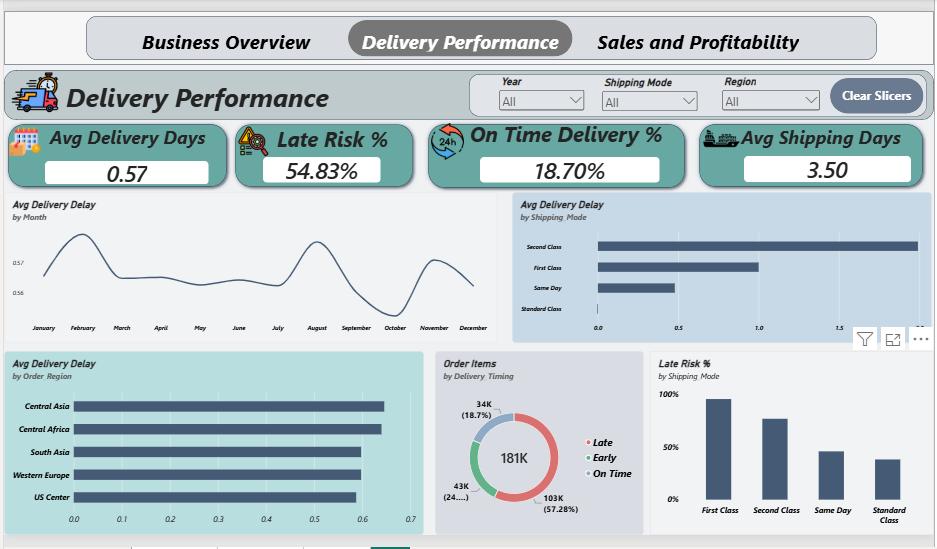

What the dashboard file says about the page in this screenshot:
{"tool":"powerbi","page":{"name":"Delivery","canvas":[1920,1080],"ordinal":1},"visuals":[{"type":"group","id":"g1","title":"Group 11","box":[0,0,1920,110.9],"z":0},{"type":"shape","box":[0,0,1920,110.9],"z":0,"group":"g1"},{"type":"group","id":"g2","title":"Group 1","box":[0,225,468.6,146.6],"z":0,"group":"g8"},{"type":"shape","box":[0,225,468.6,146.6],"z":0,"group":"g2"},{"type":"group","id":"g3","title":"Group 3","box":[468.6,225,384,146.6],"z":0,"group":"g10"},{"type":"group","id":"g4","title":"Group 1","box":[468.6,225,384,146.6],"z":0,"group":"g3"},{"type":"shape","box":[468.6,225,384,146.6],"z":0,"group":"g11"},{"type":"group","id":"g5","title":"Group 1","box":[867.1,225,547.1,148.6],"z":0,"group":"g9"},{"type":"shape","box":[867.1,225,547.1,148.6],"z":0,"group":"g5"},{"type":"group","id":"g6","title":"Group 1","box":[1426.2,225,479,146.6],"z":0,"group":"g12"},{"type":"shape","box":[1426.2,225,479,146.6],"z":0,"group":"g6"},{"type":"shape","box":[168.8,10.1,1632.8,90.7],"z":1000,"group":"g14"},{"type":"group","id":"g7","title":"Group 2","box":[0,119.7,1920,105.7],"z":1000},{"type":"image","box":[1434.1,225.1,92.9,76.4],"z":1000,"group":"g12"},{"type":"textbox","box":[562.8,235.4,276.3,67.8],"z":1000,"group":"g10"},{"type":"image","box":[0,237.3,86.6,64],"z":1000,"group":"g8"},{"type":"cardVisual","fields":{"Data":["SupplyChain.Avg Shipping Days"]},"box":[1527.3,298.8,345.7,54.7],"z":1000,"group":"g6"},{"type":"cardVisual","fields":{"Data":["SupplyChain.Late Risk %"]},"box":[533.8,301.3,243.6,53.7],"z":1000,"group":"g11"},{"type":"cardVisual","fields":{"Data":["SupplyChain.On Time Delivery %"]},"box":[983.3,302,371.3,53.9],"z":1000,"group":"g5"},{"type":"cardVisual","fields":{"Data":["SupplyChain.Avg Delivery Delay"]},"box":[85.6,308.8,338.2,48.2],"z":1000,"group":"g2"},{"type":"actionButton","box":[226.8,17.7,463.6,75.6],"z":2000,"group":"g14"},{"type":"actionButton","box":[1704.7,137.6,193.4,73.8],"z":2000},{"type":"textbox","box":[910.8,225.6,499.5,96.9],"z":2000,"group":"g5"},{"type":"textbox","box":[40.8,234.5,427.9,90.4],"z":2000,"group":"g2"},{"type":"textbox","box":[1466.9,235.3,437.3,92.9],"z":2000,"group":"g6"},{"type":"group","id":"g8","title":"Group 3","box":[0,225,468.6,146.6],"z":3000},{"type":"actionButton","box":[710.5,17.7,463.6,75.6],"z":4000,"group":"g14"},{"type":"shape","box":[0,120.9,1920,103.3],"z":4000,"group":"g13"},{"type":"group","id":"g9","title":"Group 3","box":[867.1,225,547.1,148.6],"z":4000},{"type":"group","id":"g10","title":"Group 4","box":[468.6,225,384,146.6],"z":4002,"group":"g15"},{"type":"group","id":"g11","title":"Group 5","box":[468.6,225,384,146.6],"z":4005,"group":"g4"},{"type":"image","box":[472.8,235.4,83.7,68.1],"z":4010,"group":"g15"},{"type":"actionButton","box":[1201.9,17.7,463.6,75.6],"z":5000,"group":"g14"},{"type":"textbox","box":[127.6,139.6,767.6,85.7],"z":5000,"group":"g13"},{"type":"group","id":"g12","title":"Group 3","box":[1426.2,225,479,146.6],"z":5000},{"type":"clusteredBarChart","fields":{"Category":["SupplyChain.Shipping_Mode"],"Y":["SupplyChain.Avg Delivery Delay"]},"box":[1048.8,373.7,867.1,311.7],"z":6000},{"type":"image","box":[0,119.7,127.6,95.7],"z":6010,"group":"g13"},{"type":"clusteredColumnChart","fields":{"Category":["SupplyChain.Shipping_Mode"],"Y":["SupplyChain.Late Risk %"]},"box":[1333.7,701.9,586.3,379.9],"z":7000},{"type":"clusteredBarChart","fields":{"Category":["SupplyChain.Order_Region"],"Y":["SupplyChain.Avg Delivery Delay"]},"box":[0,701.9,867.1,379.9],"z":8000},{"type":"donutChart","fields":{"Category":["SupplyChain.Delivery_Timing"],"Y":["SupplyChain.Order Items"]},"box":[889.8,701.9,431.5,379.9],"z":9000},{"type":"group","id":"g13","title":"Group 8","box":[0,119.7,1920,105.7],"z":10000,"group":"g7"},{"type":"lineChart","fields":{"Y":["SupplyChain.Avg Delivery Delay"],"Category":["SupplyChain.Months.Variation.Date Hierarchy.Month"]},"box":[0,373.7,1017.8,311.7],"z":10000},{"type":"group","id":"g14","title":"Group 10","box":[168.8,10.1,1632.8,90.7],"z":11000,"group":"g1"},{"type":"group","id":"g15","title":"Group 6","box":[468.6,225,384,146.6],"z":11000},{"type":"image","box":[871.2,231.2,88.8,76.4],"z":12000},{"type":"slicer","fields":{"Values":["SupplyChain.Months.Variation.Date Hierarchy.Year","SupplyChain.Months.Variation.Date Hierarchy.Month"]},"box":[1016.8,132.9,185.4,79.8],"z":13000,"group":"g7"},{"type":"shape","box":[961,129.7,945,87.7],"z":13001,"group":"g13"},{"type":"slicer","fields":{"Values":["SupplyChain.Shipping_Mode"]},"box":[1230.5,134.7,206.5,72.3],"z":14000,"group":"g7"},{"type":"slicer","fields":{"Values":["SupplyChain.Order_Region"]},"box":[1477.4,132.9,211.3,79.8],"z":15000,"group":"g7"}]}

Visuals, with their boxes on the page's 1920x1080 design canvas (x1, y1, x2, y2). These are canvas units, not pixel positions in the 937x549 screenshot, which may show the page scaled, cropped or inside an application window:
"Group 11" group: <box>0,0,1920,111</box>
shape: <box>0,0,1920,111</box>
"Group 1" group: <box>0,225,469,372</box>
shape: <box>0,225,469,372</box>
"Group 3" group: <box>469,225,853,372</box>
"Group 1" group: <box>469,225,853,372</box>
shape: <box>469,225,853,372</box>
"Group 1" group: <box>867,225,1414,374</box>
shape: <box>867,225,1414,374</box>
"Group 1" group: <box>1426,225,1905,372</box>
shape: <box>1426,225,1905,372</box>
shape: <box>169,10,1802,101</box>
"Group 2" group: <box>0,120,1920,225</box>
image: <box>1434,225,1527,302</box>
textbox: <box>563,235,839,303</box>
image: <box>0,237,87,301</box>
cardVisual - SupplyChain.Avg Shipping Days: <box>1527,299,1873,354</box>
cardVisual - SupplyChain.Late Risk %: <box>534,301,777,355</box>
cardVisual - SupplyChain.On Time Delivery %: <box>983,302,1355,356</box>
cardVisual - SupplyChain.Avg Delivery Delay: <box>86,309,424,357</box>
actionButton: <box>227,18,690,93</box>
actionButton: <box>1705,138,1898,211</box>
textbox: <box>911,226,1410,322</box>
textbox: <box>41,234,469,325</box>
textbox: <box>1467,235,1904,328</box>
"Group 3" group: <box>0,225,469,372</box>
actionButton: <box>710,18,1174,93</box>
shape: <box>0,121,1920,224</box>
"Group 3" group: <box>867,225,1414,374</box>
"Group 4" group: <box>469,225,853,372</box>
"Group 5" group: <box>469,225,853,372</box>
image: <box>473,235,556,304</box>
actionButton: <box>1202,18,1666,93</box>
textbox: <box>128,140,895,225</box>
"Group 3" group: <box>1426,225,1905,372</box>
clusteredBarChart - SupplyChain.Shipping_Mode x SupplyChain.Avg Delivery Delay: <box>1049,374,1916,685</box>
image: <box>0,120,128,215</box>
clusteredColumnChart - SupplyChain.Shipping_Mode x SupplyChain.Late Risk %: <box>1334,702,1920,1082</box>
clusteredBarChart - SupplyChain.Order_Region x SupplyChain.Avg Delivery Delay: <box>0,702,867,1082</box>
donutChart - SupplyChain.Delivery_Timing x SupplyChain.Order Items: <box>890,702,1321,1082</box>
"Group 8" group: <box>0,120,1920,225</box>
lineChart - SupplyChain.Avg Delivery Delay x SupplyChain.Months.Variation.Date Hierarchy.Month: <box>0,374,1018,685</box>
"Group 10" group: <box>169,10,1802,101</box>
"Group 6" group: <box>469,225,853,372</box>
image: <box>871,231,960,308</box>
slicer - SupplyChain.Months.Variation.Date Hierarchy.Year x SupplyChain.Months.Variation.Date Hierarchy.Month: <box>1017,133,1202,213</box>
shape: <box>961,130,1906,217</box>
slicer - SupplyChain.Shipping_Mode: <box>1230,135,1437,207</box>
slicer - SupplyChain.Order_Region: <box>1477,133,1689,213</box>
